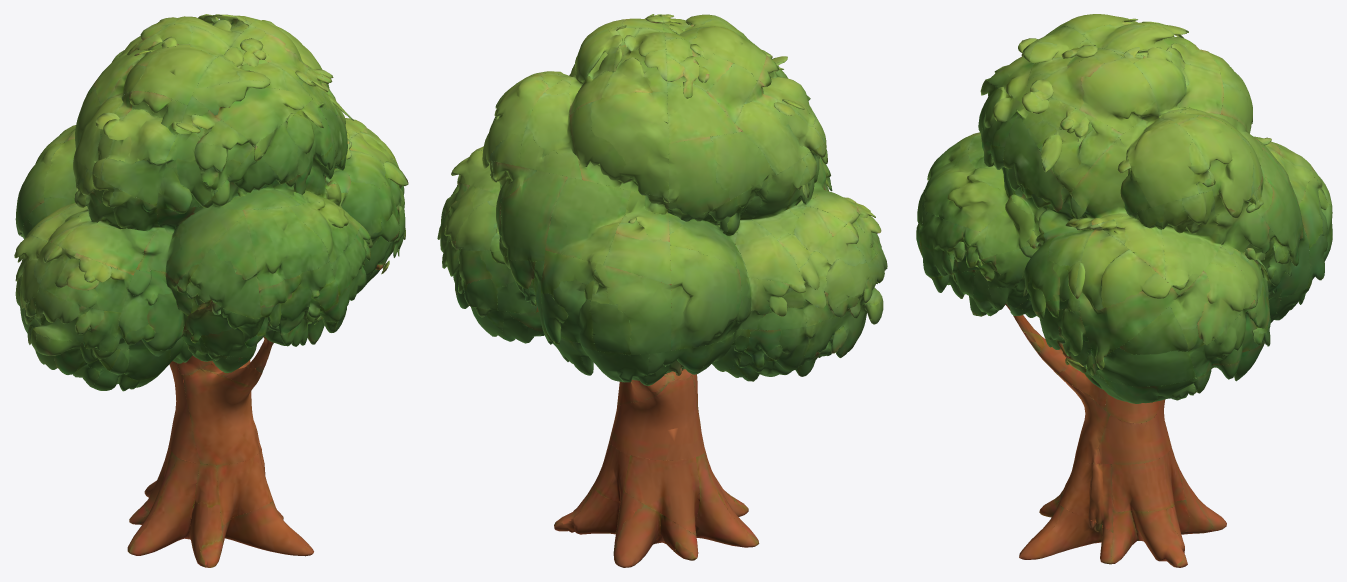
The model's file is sunlit-canopy.glb.
The picture shows the model from 3 angles, left to right: view 1: azimuth 30°, elevation 25°; view 2: azimuth 150°, elevation 25°; view 3: azimuth 270°, elevation 25°; orthographic projection.
Visible parts, largest first — view 1: mesh_node; view 2: mesh_node; view 3: mesh_node.
Boxes of the visible parts, bbox=[...] form: mesh_node: bbox=[14, 14, 408, 567]; mesh_node: bbox=[437, 14, 887, 567]; mesh_node: bbox=[916, 14, 1332, 567].
Size of the model in its own units: 1.55 by 1.9 by 1.43.
1 material, 1 textured.
